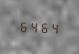four: (28, 19, 37, 33), (48, 20, 57, 34)
six: (18, 18, 27, 33), (38, 19, 47, 34)
